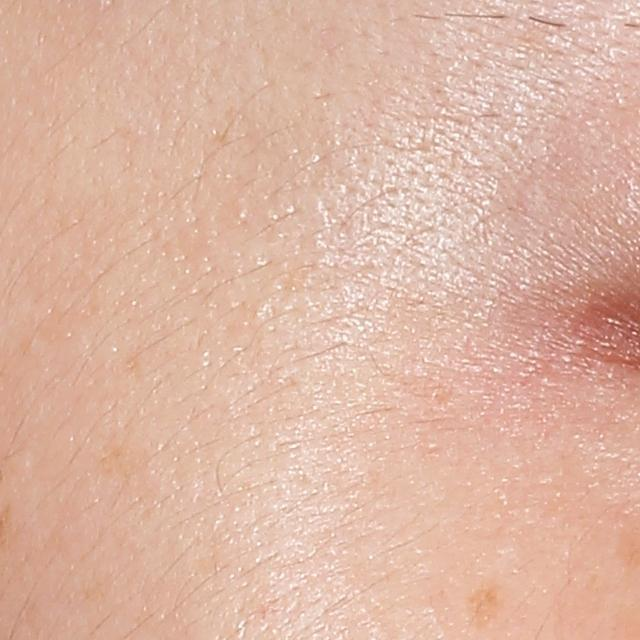melasma: (466, 579, 505, 628)
